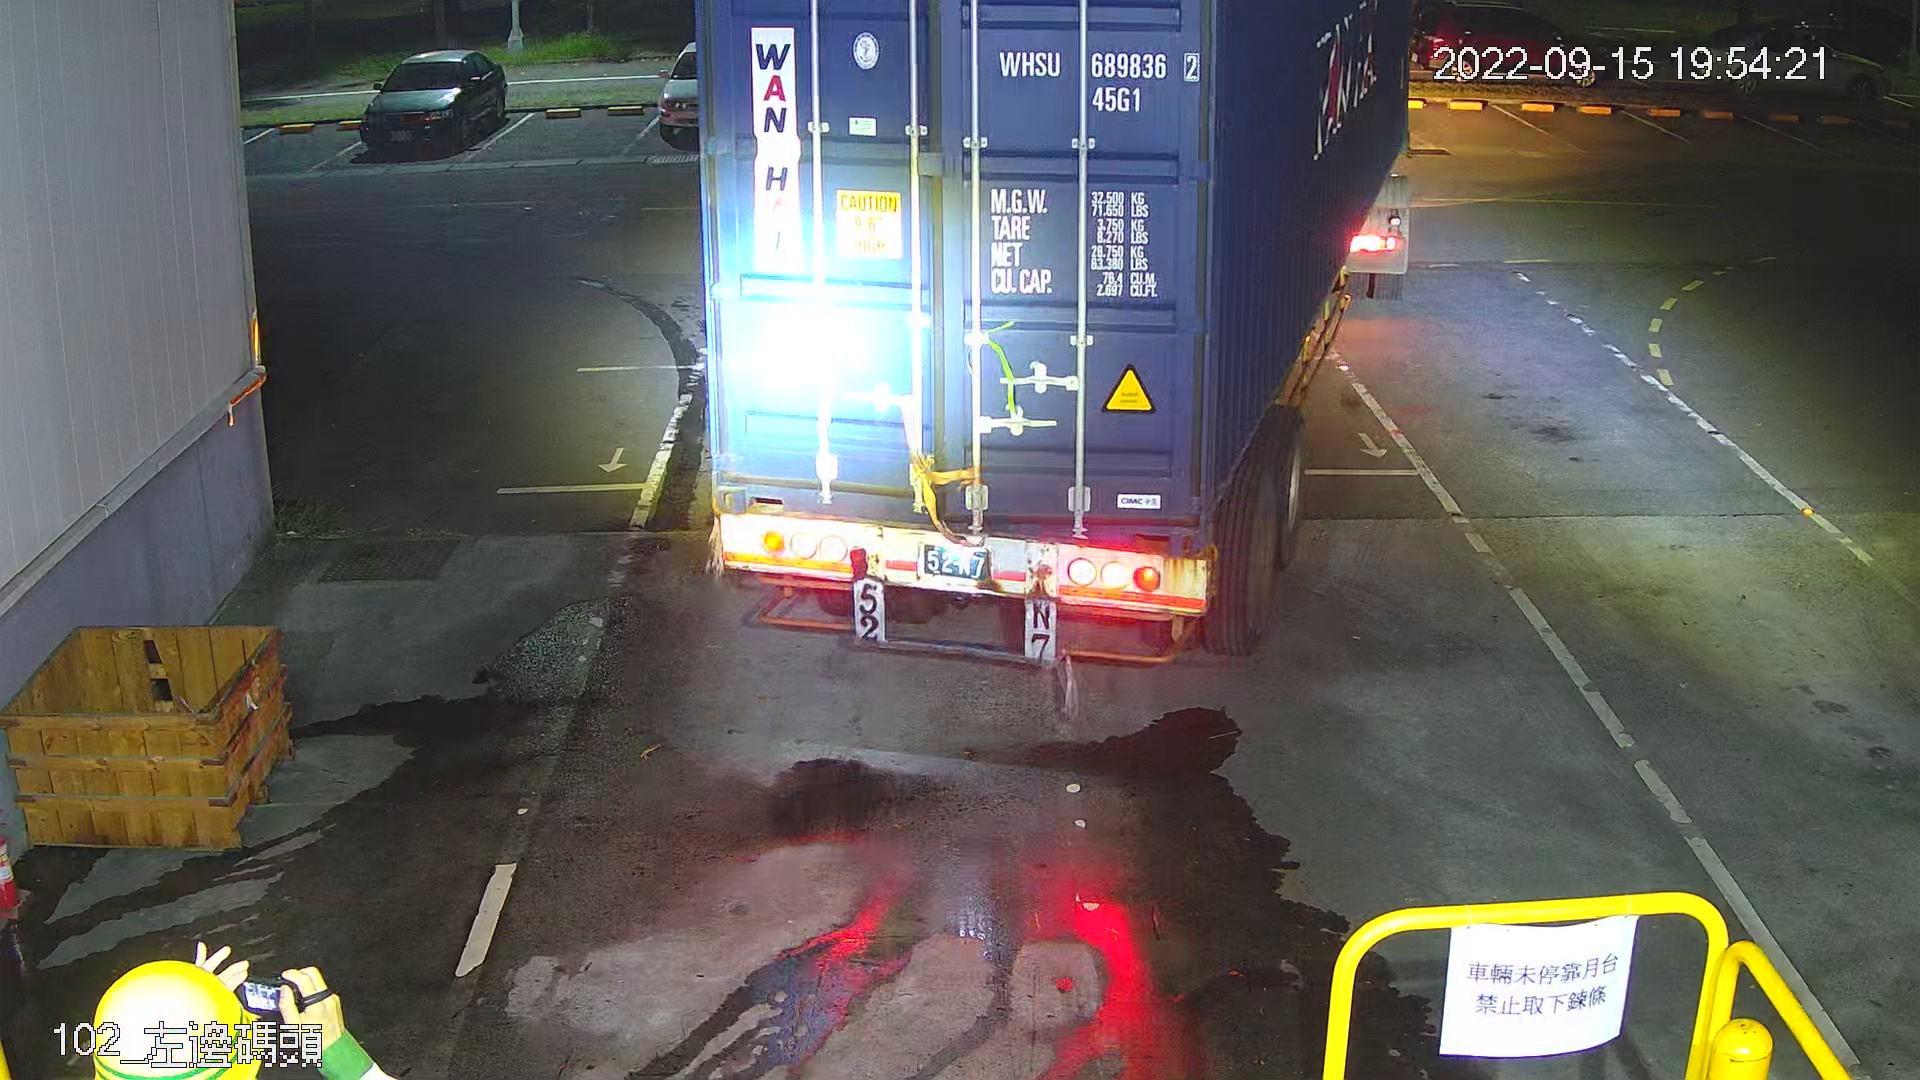container: (989, 41, 1211, 119)
